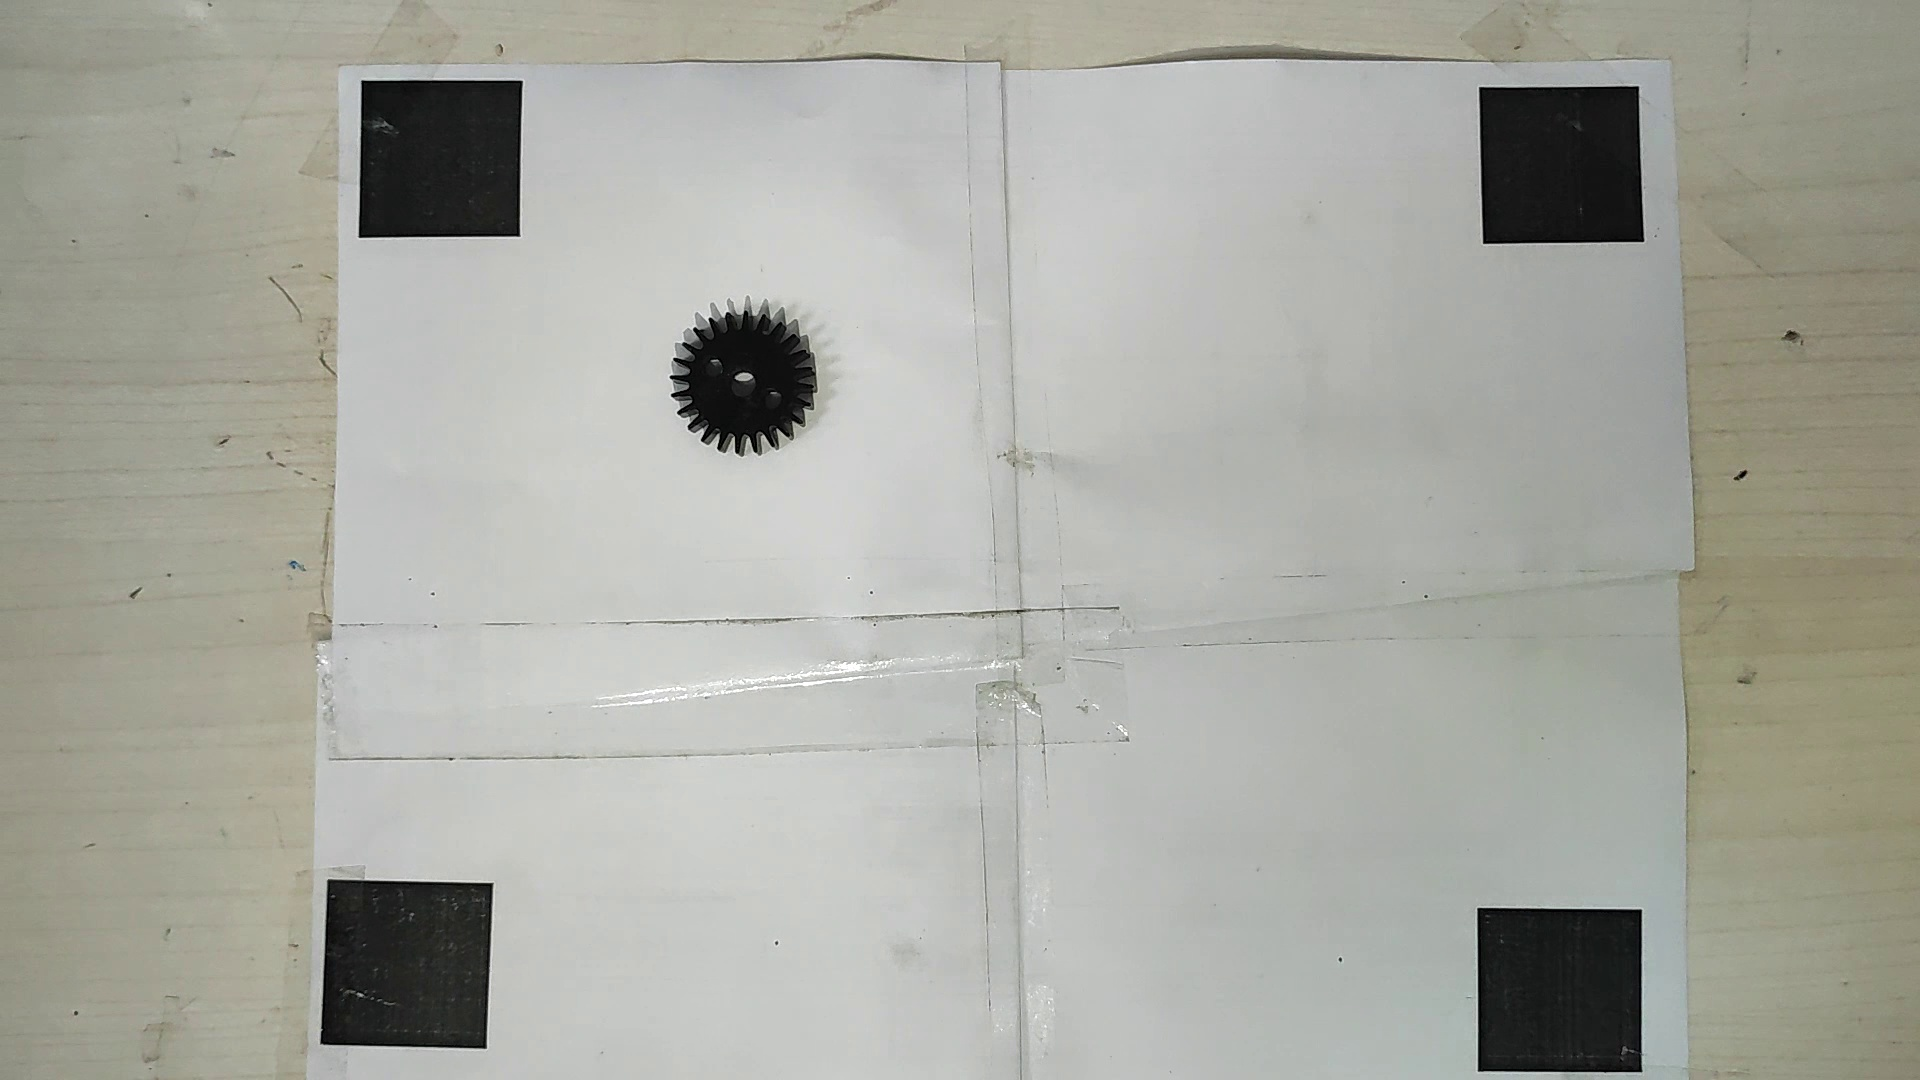Gear: (666, 305, 822, 458)
